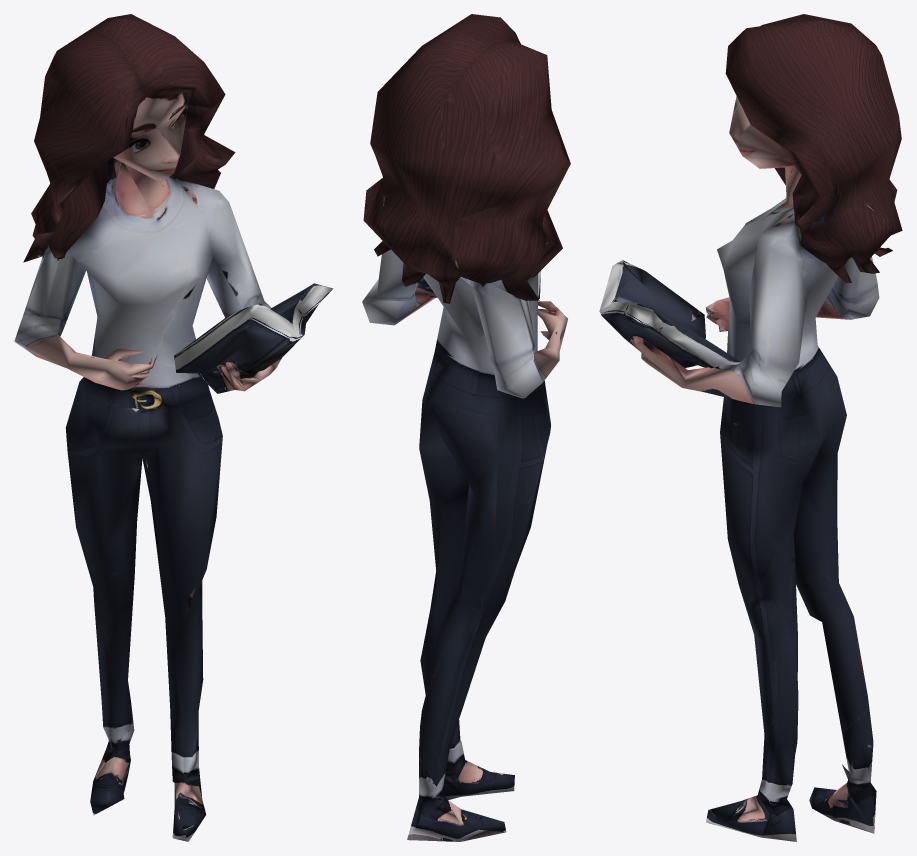
File: lena-previous.glb
The picture shows the model from 3 angles, left to right: view 1: azimuth 30°, elevation 25°; view 2: azimuth 150°, elevation 25°; view 3: azimuth 270°, elevation 25°; orthographic projection. The views are drawn at different scales.
Visible parts, largest first — view 1: tripo_node_fe8ebdc5-19dc-4dee-b55a-807c287dbd84; view 2: tripo_node_fe8ebdc5-19dc-4dee-b55a-807c287dbd84; view 3: tripo_node_fe8ebdc5-19dc-4dee-b55a-807c287dbd84.
Boxes of the visible parts, <box> form: tripo_node_fe8ebdc5-19dc-4dee-b55a-807c287dbd84: <box>14,14,333,841</box>; tripo_node_fe8ebdc5-19dc-4dee-b55a-807c287dbd84: <box>362,14,570,841</box>; tripo_node_fe8ebdc5-19dc-4dee-b55a-807c287dbd84: <box>599,14,902,841</box>.
Size of the model in its own units: 0.2899 by 0.9788 by 0.3366.
1 material, 1 textured.
